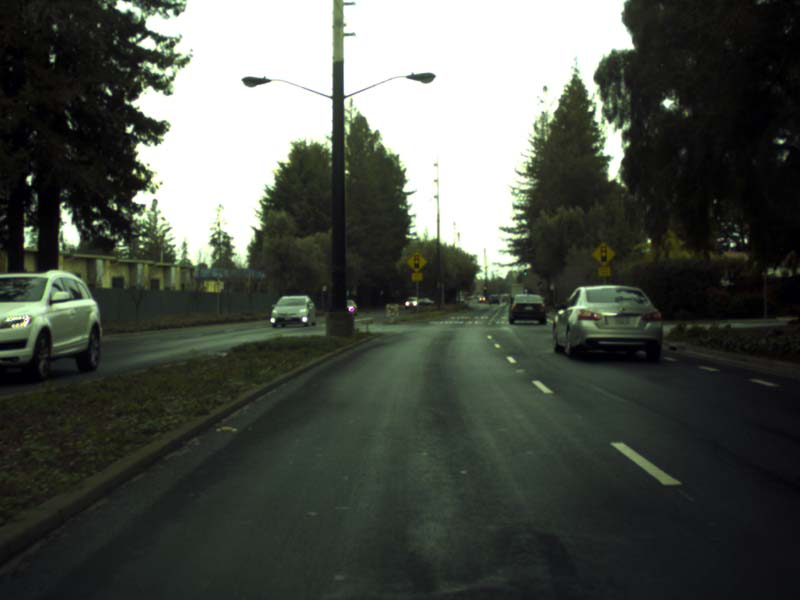Green: (523, 268, 527, 275), (538, 282, 542, 289)
Red: (482, 285, 488, 296), (466, 287, 469, 296)
